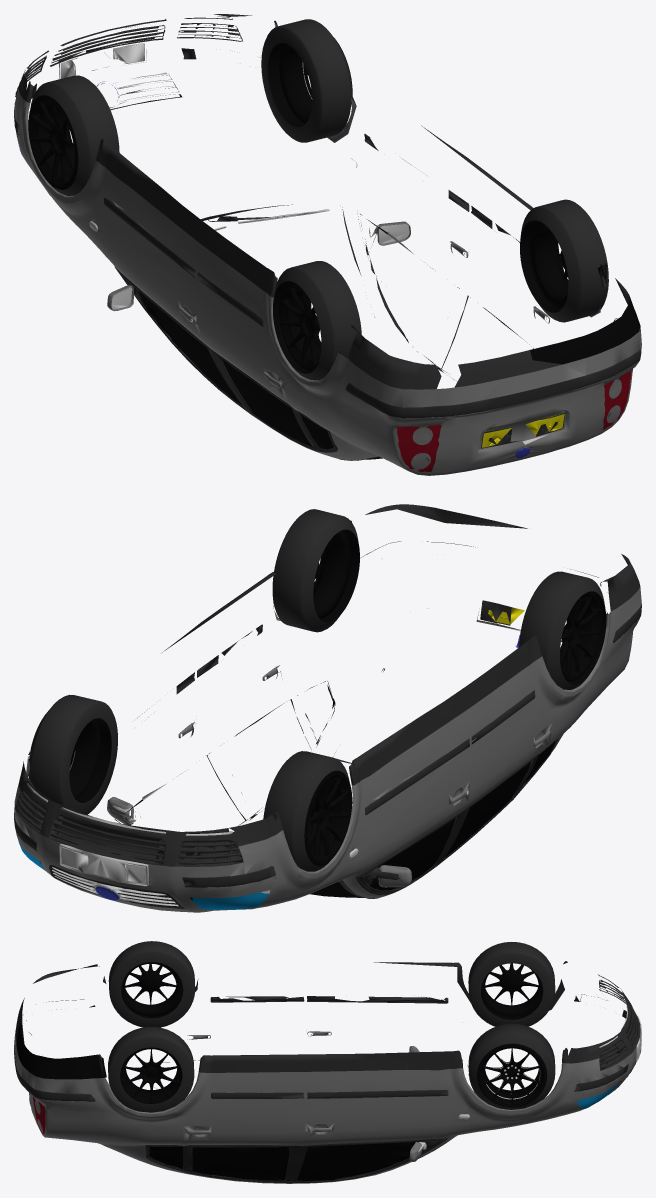
File: passat2.gltf
3 views of the same model, one above another, from view 1: azimuth 30°, elevation 25°; view 2: azimuth 150°, elevation 25°; view 3: azimuth 270°, elevation 25° (orthographic). The views are drawn at different scales.
Parts seen in each view (by area): view 1: PASSAT_OBJ2; view 2: PASSAT_OBJ2; view 3: PASSAT_OBJ2.
Part boxes in pixels (x1,y1,x2,y2): PASSAT_OBJ2: [14, 14, 641, 475]; PASSAT_OBJ2: [14, 504, 641, 912]; PASSAT_OBJ2: [14, 941, 641, 1183].
Bounding box in the file's own units: 2.49 × 1.87 × 6.21.
